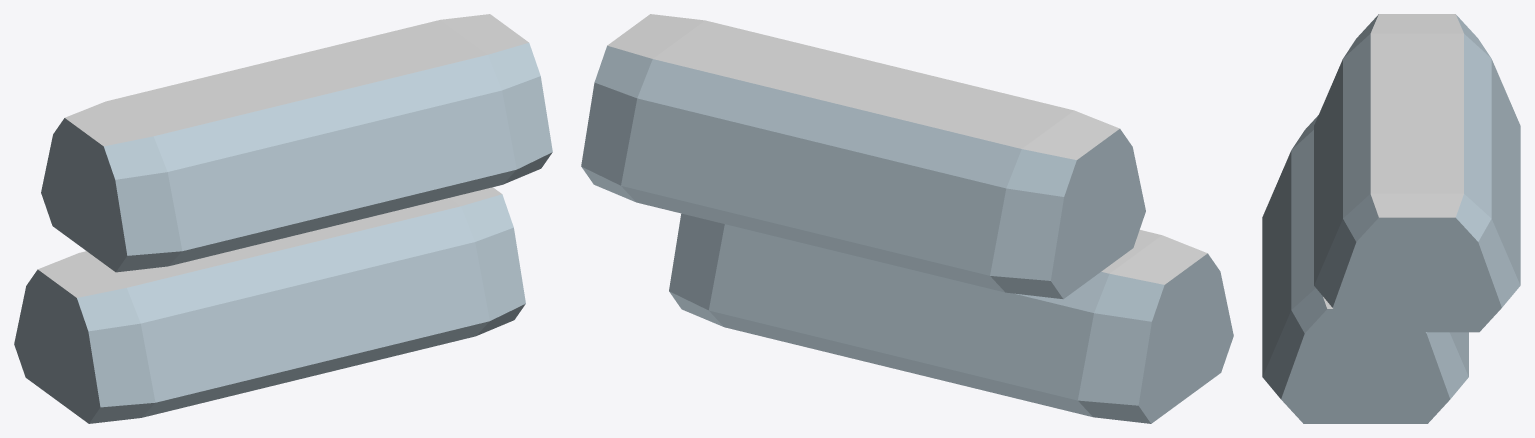
File: platinum_bar.glb
3 renders of one model, left to right at view 1: azimuth 30°, elevation 25°; view 2: azimuth 150°, elevation 25°; view 3: azimuth 270°, elevation 25°, orthographic. The views are drawn at different scales.
Visible parts, largest first — view 1: platinum_bar_v0; view 2: platinum_bar_v0; view 3: platinum_bar_v0.
Boxes of the visible parts, box(x1,y1,x2,y2) form: platinum_bar_v0: box(14, 14, 552, 423); platinum_bar_v0: box(581, 14, 1233, 423); platinum_bar_v0: box(1262, 14, 1520, 423).
Bounding box in the file's own units: 0.315 × 0.15 × 0.15.
